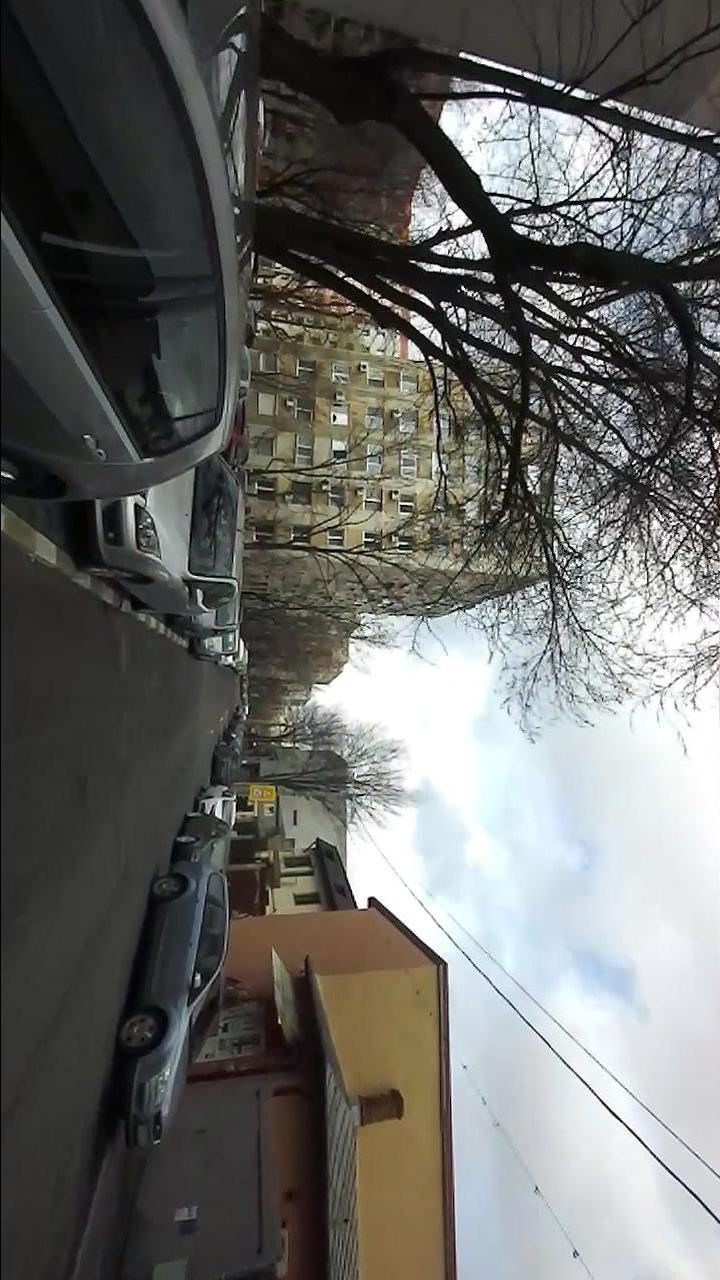pothole: (73, 775, 95, 812)
